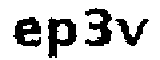3: (82, 3, 114, 50)
e: (13, 17, 43, 50)
p: (43, 14, 78, 60)
v: (116, 15, 149, 50)
